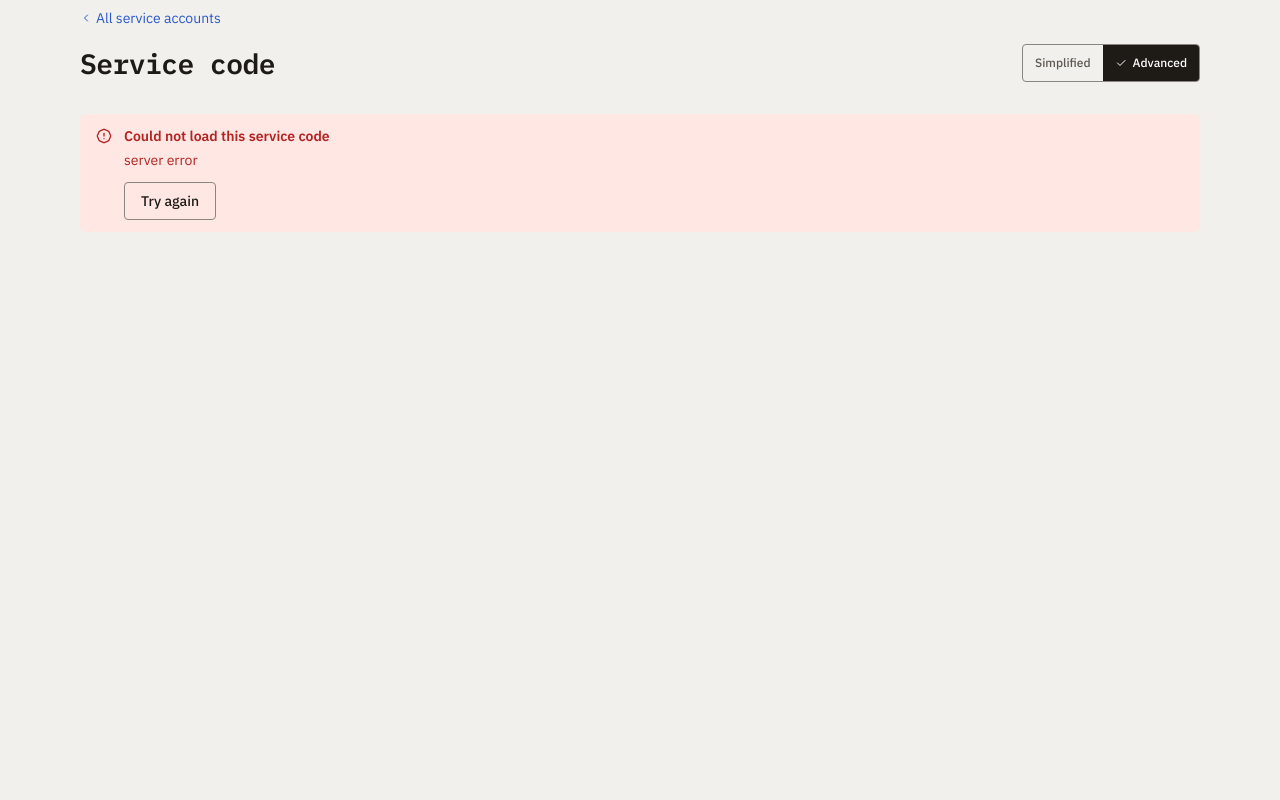
when the service code fails to load › should ask the server again when Try again is pressed
Click the button "Try again". click: (170, 201)
box: [124,182,216,220]
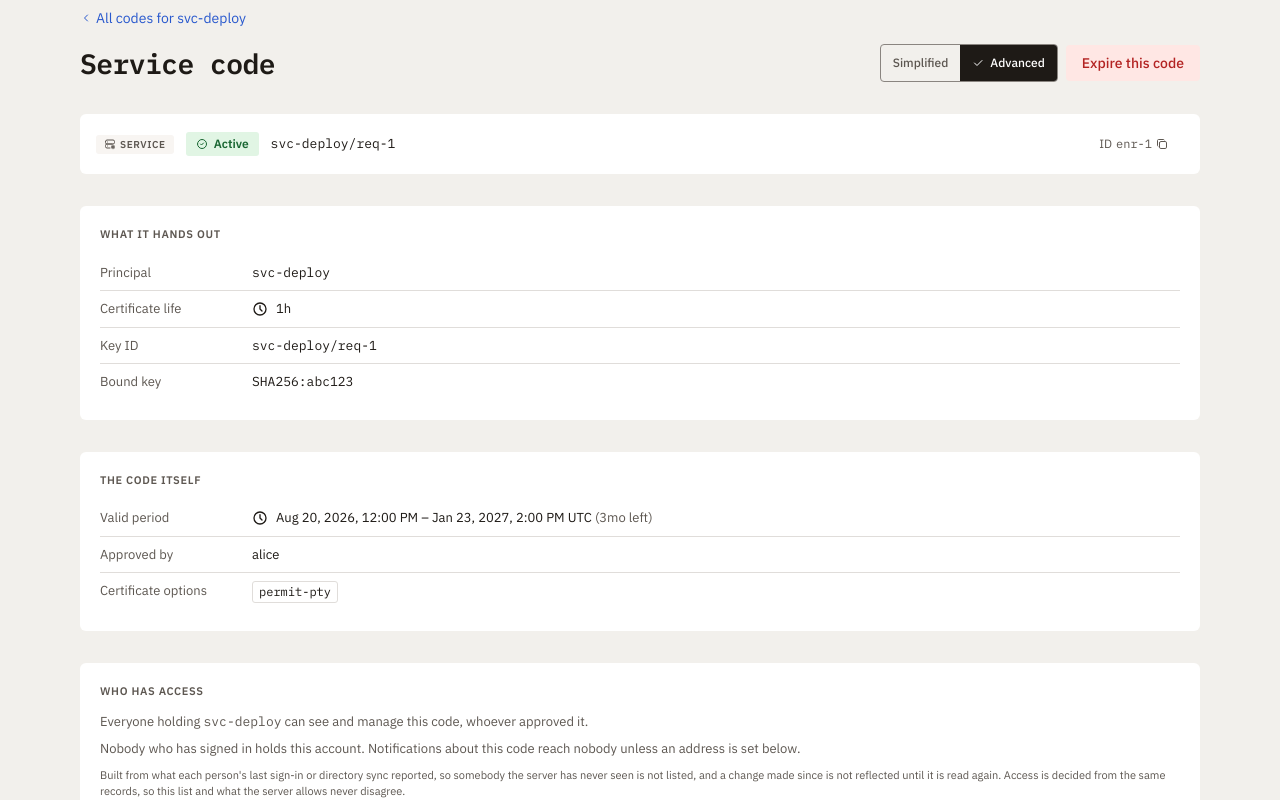
Now the text with test id "service-code-account" reads "svc-deploy", box [252,264,330,280]
